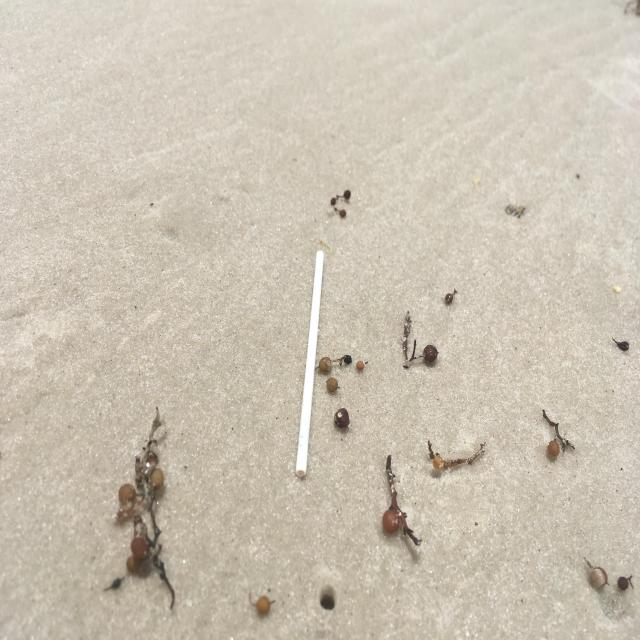litter: (314, 157, 345, 387)
